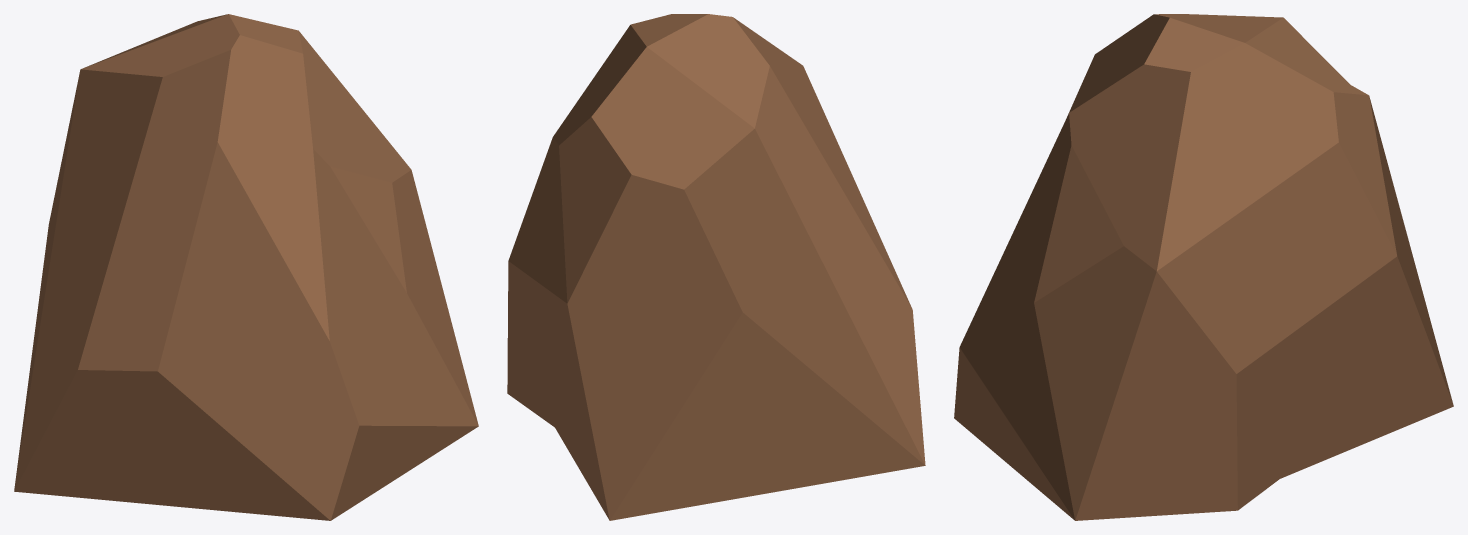
Rendered from stone01_dirt.fbx.
3 renders of one model, left to right at view 1: azimuth 30°, elevation 25°; view 2: azimuth 150°, elevation 25°; view 3: azimuth 270°, elevation 25°, orthographic. The views are drawn at different scales.
Visible parts, largest first — view 1: stone01_dirt_LOD0; view 2: stone01_dirt_LOD0; view 3: stone01_dirt_LOD0.
Boxes of the visible parts, box(x1,y1,x2,y2) form: stone01_dirt_LOD0: box(14, 14, 478, 520); stone01_dirt_LOD0: box(507, 14, 925, 520); stone01_dirt_LOD0: box(954, 14, 1453, 520).
Size of what is drawn, in the model's own units: 93.97 by 91.44 by 96.79.
